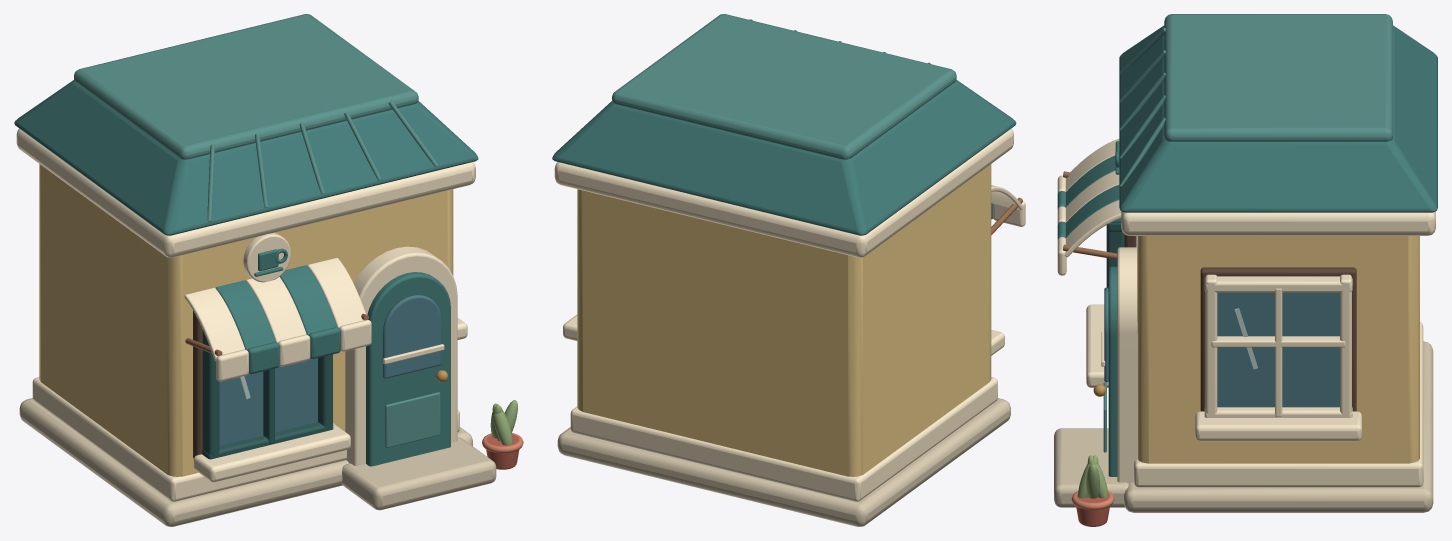
Rendered from cafe_level_1_before.glb.
The picture shows the model from 3 angles, left to right: view 1: azimuth 30°, elevation 25°; view 2: azimuth 150°, elevation 25°; view 3: azimuth 270°, elevation 25°; orthographic projection. The views are drawn at different scales.
Parts seen in each view (by area): view 1: Wall • butter plaster, Roof • soft hipped shell, Roof • rounded crown, Roof • cream cornice, Foundation • stone plinth, Door • teal panel, Door • step, Door • cream arch, Wall • cream skirting, Window • blue glazing, Door • inset glass, Window • deep sill (+18 smaller); view 2: Wall • butter plaster, Roof • soft hipped shell, Roof • rounded crown, Foundation • stone plinth, Roof • cream cornice, Wall • cream skirting; view 3: Wall • butter plaster, Roof • soft hipped shell, Roof • rounded crown, Window • blue glazing.001, Foundation • stone plinth, Wall • cream skirting, Roof • cream cornice, Door • cream arch, Window • deep sill.001, Door • step, Window • shadow recess.001, Window • lintel.003 (+15 smaller).
Part boxes in pixels (box(x1,y1,x2,y2)): Wall • butter plaster: box(39, 164, 453, 476); Roof • soft hipped shell: box(14, 80, 478, 235); Roof • rounded crown: box(74, 14, 418, 159); Roof • cream cornice: box(16, 128, 475, 257); Foundation • stone plinth: box(19, 398, 472, 526); Door • teal panel: box(366, 272, 450, 466); Door • step: box(342, 437, 496, 510); Door • cream arch: box(345, 246, 457, 465); Wall • cream skirting: box(32, 377, 459, 501); Window • blue glazing: box(219, 358, 317, 445); Door • inset glass: box(382, 295, 441, 378); Window • deep sill: box(193, 423, 350, 482); Wall • butter plaster: box(577, 164, 991, 476); Roof • soft hipped shell: box(552, 80, 1016, 235); Roof • rounded crown: box(612, 14, 956, 159); Foundation • stone plinth: box(557, 398, 1010, 526); Roof • cream cornice: box(554, 128, 1013, 257); Wall • cream skirting: box(570, 377, 997, 501); Wall • butter plaster: box(1137, 236, 1419, 463); Roof • soft hipped shell: box(1119, 25, 1437, 212); Roof • rounded crown: box(1164, 14, 1392, 141); Window • blue glazing.001: box(1217, 292, 1339, 407); Foundation • stone plinth: box(1124, 341, 1433, 512); Wall • cream skirting: box(1134, 322, 1423, 487); Roof • cream cornice: box(1121, 211, 1435, 235); Door • cream arch: box(1117, 247, 1137, 483); Window • deep sill.001: box(1195, 411, 1361, 441); Door • step: box(1054, 428, 1128, 507); Window • shadow recess.001: box(1200, 267, 1356, 411); Window • lintel.003: box(1204, 276, 1352, 292).
Bounding box in the file's own units: 3 × 3.02 × 2.85.
